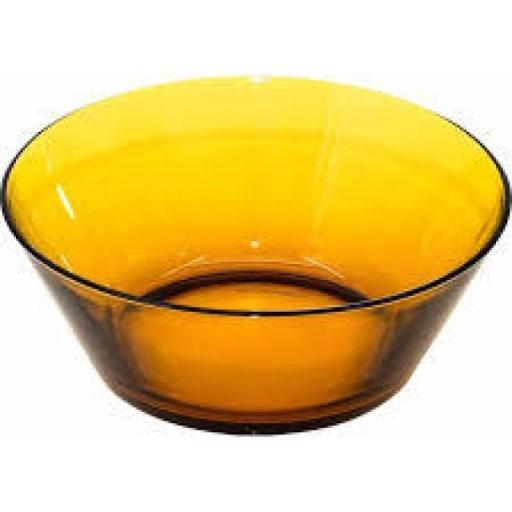glass: (0, 59, 512, 451)
